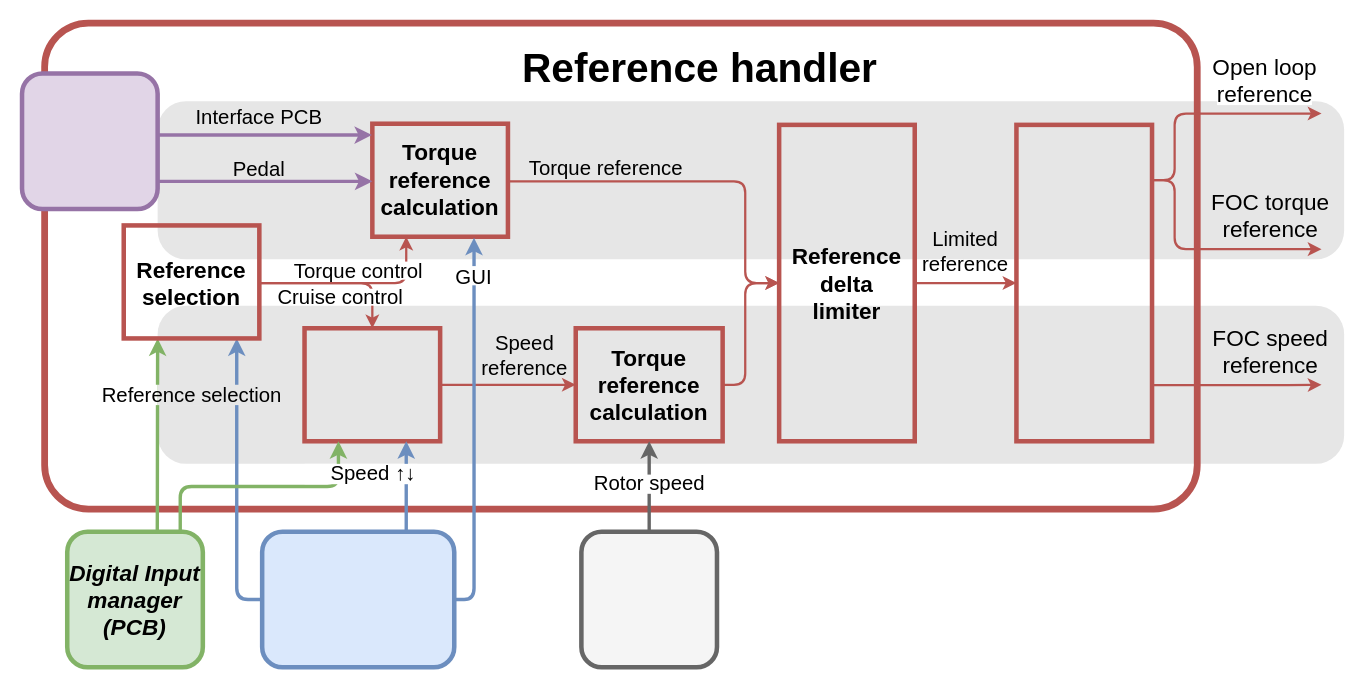
Image size: 1363x688. Some labels were removed from this diagram. Here are the shapes that lost their labels. From the top down, the box of each, then its label:
(19, 71, 159, 211): Analog input manager (PCB)
(1014, 122, 1154, 443): Saturation limit
(302, 325, 442, 443): Speed buttons counting
(259, 529, 456, 669): Communication manager (GUI)
(579, 529, 719, 669): Control
